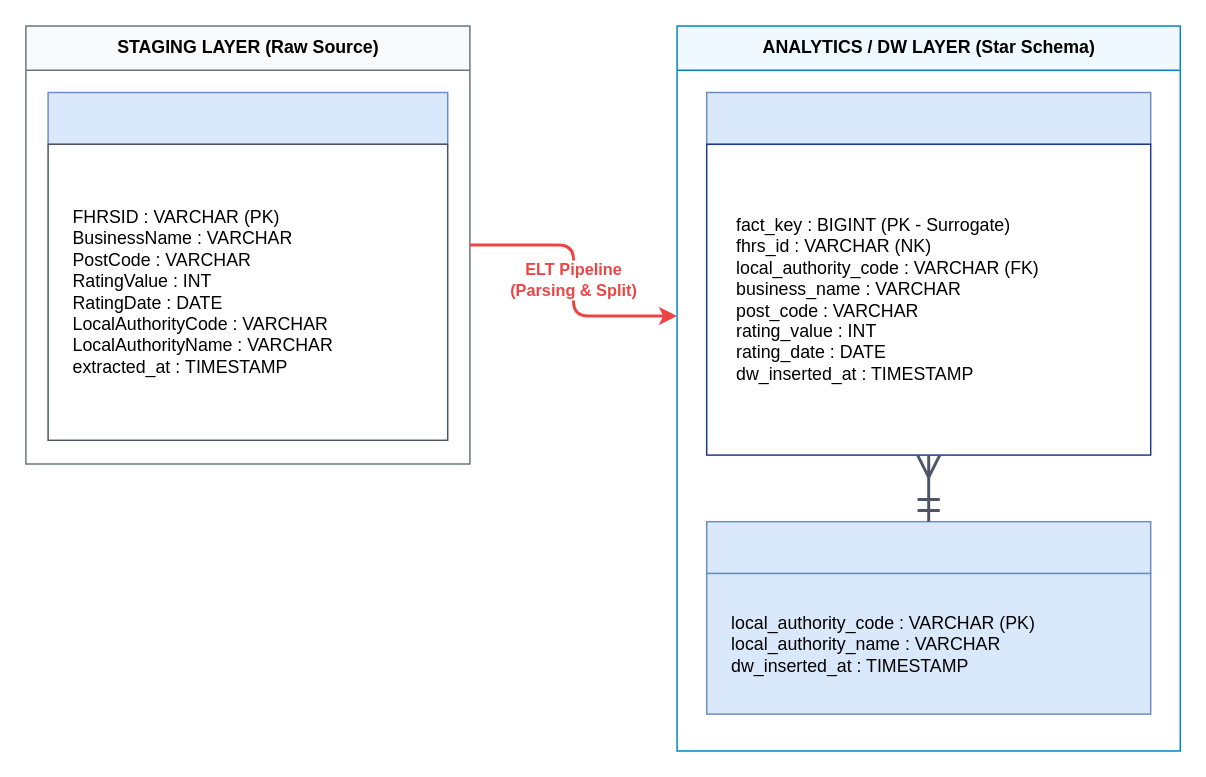
This 1206x777 diagram has some shape labels left out. Here are the shapes that lost their labels. From the top down, the centre of each, then its label:
At [247,117]: "stg_fhrs_ratings".
At [928,117]: "fact_hygiene_ratings".
At [928,547]: "dim_local_authorities".
